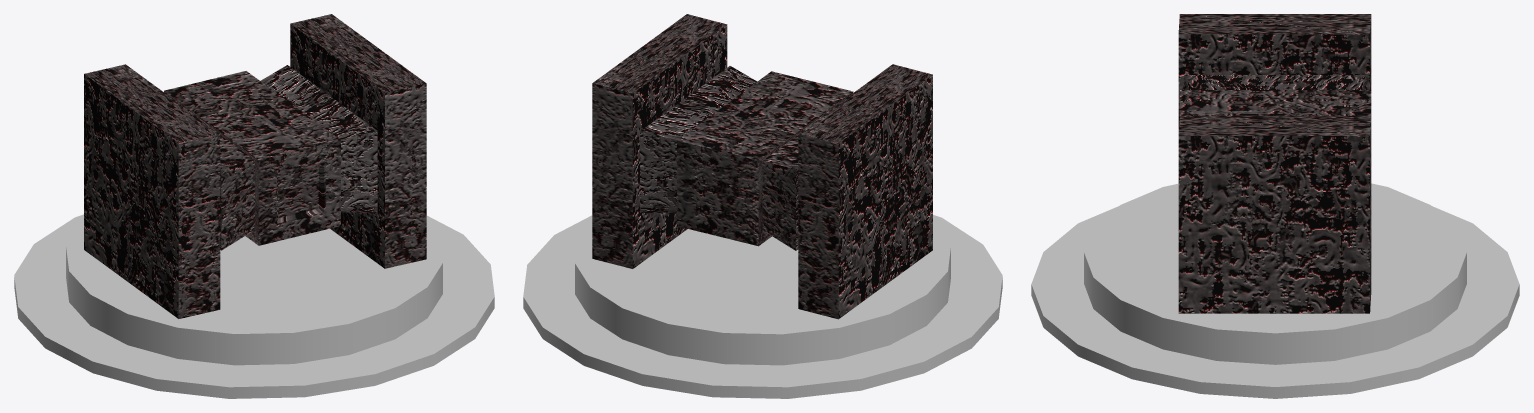
File: TurretBody.fbx
The picture shows the model from 3 angles, left to right: view 1: azimuth 30°, elevation 25°; view 2: azimuth 150°, elevation 25°; view 3: azimuth 270°, elevation 25°; orthographic projection.
Parts seen in each view (by area): view 1: polySurface3; view 2: polySurface3; view 3: polySurface3.
Boxes of the visible parts, x1,y1,x2,y2 form: polySurface3: (14, 14, 494, 398); polySurface3: (523, 14, 1002, 398); polySurface3: (1031, 14, 1519, 398).
Size of the model in its own units: 10.2 by 5.1 by 10.2.
